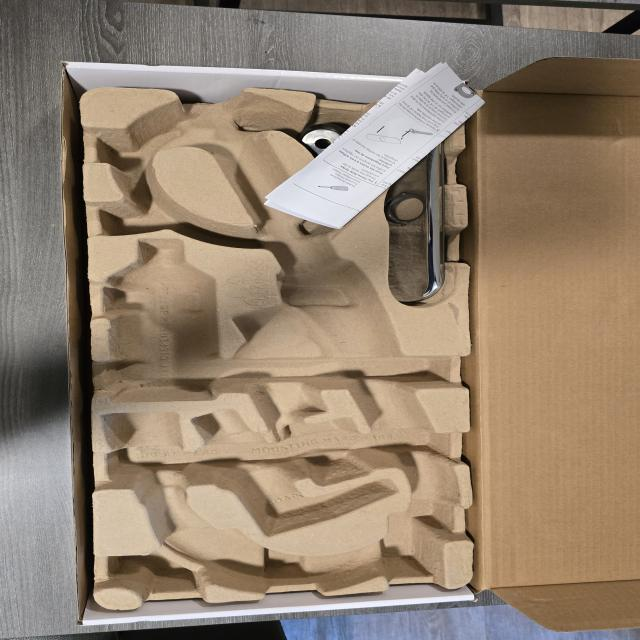1m: (106, 87, 459, 591)
2m: (194, 410, 396, 536)
3m: (104, 240, 216, 403)
4o: (383, 111, 443, 303)
5o: (301, 123, 357, 163)
6m: (95, 110, 185, 166)
7m: (103, 175, 224, 236)
8: (264, 60, 491, 229)
